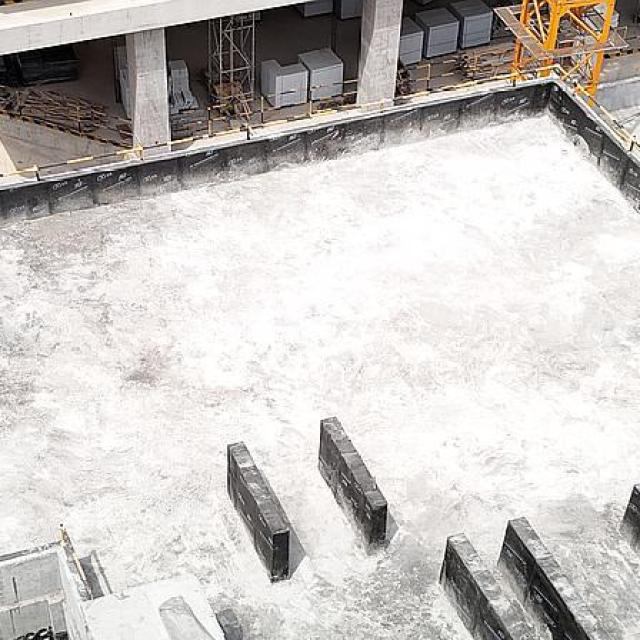edge_guardrail: (0, 62, 640, 182), (167, 78, 359, 133), (0, 83, 133, 148), (397, 46, 516, 90)
